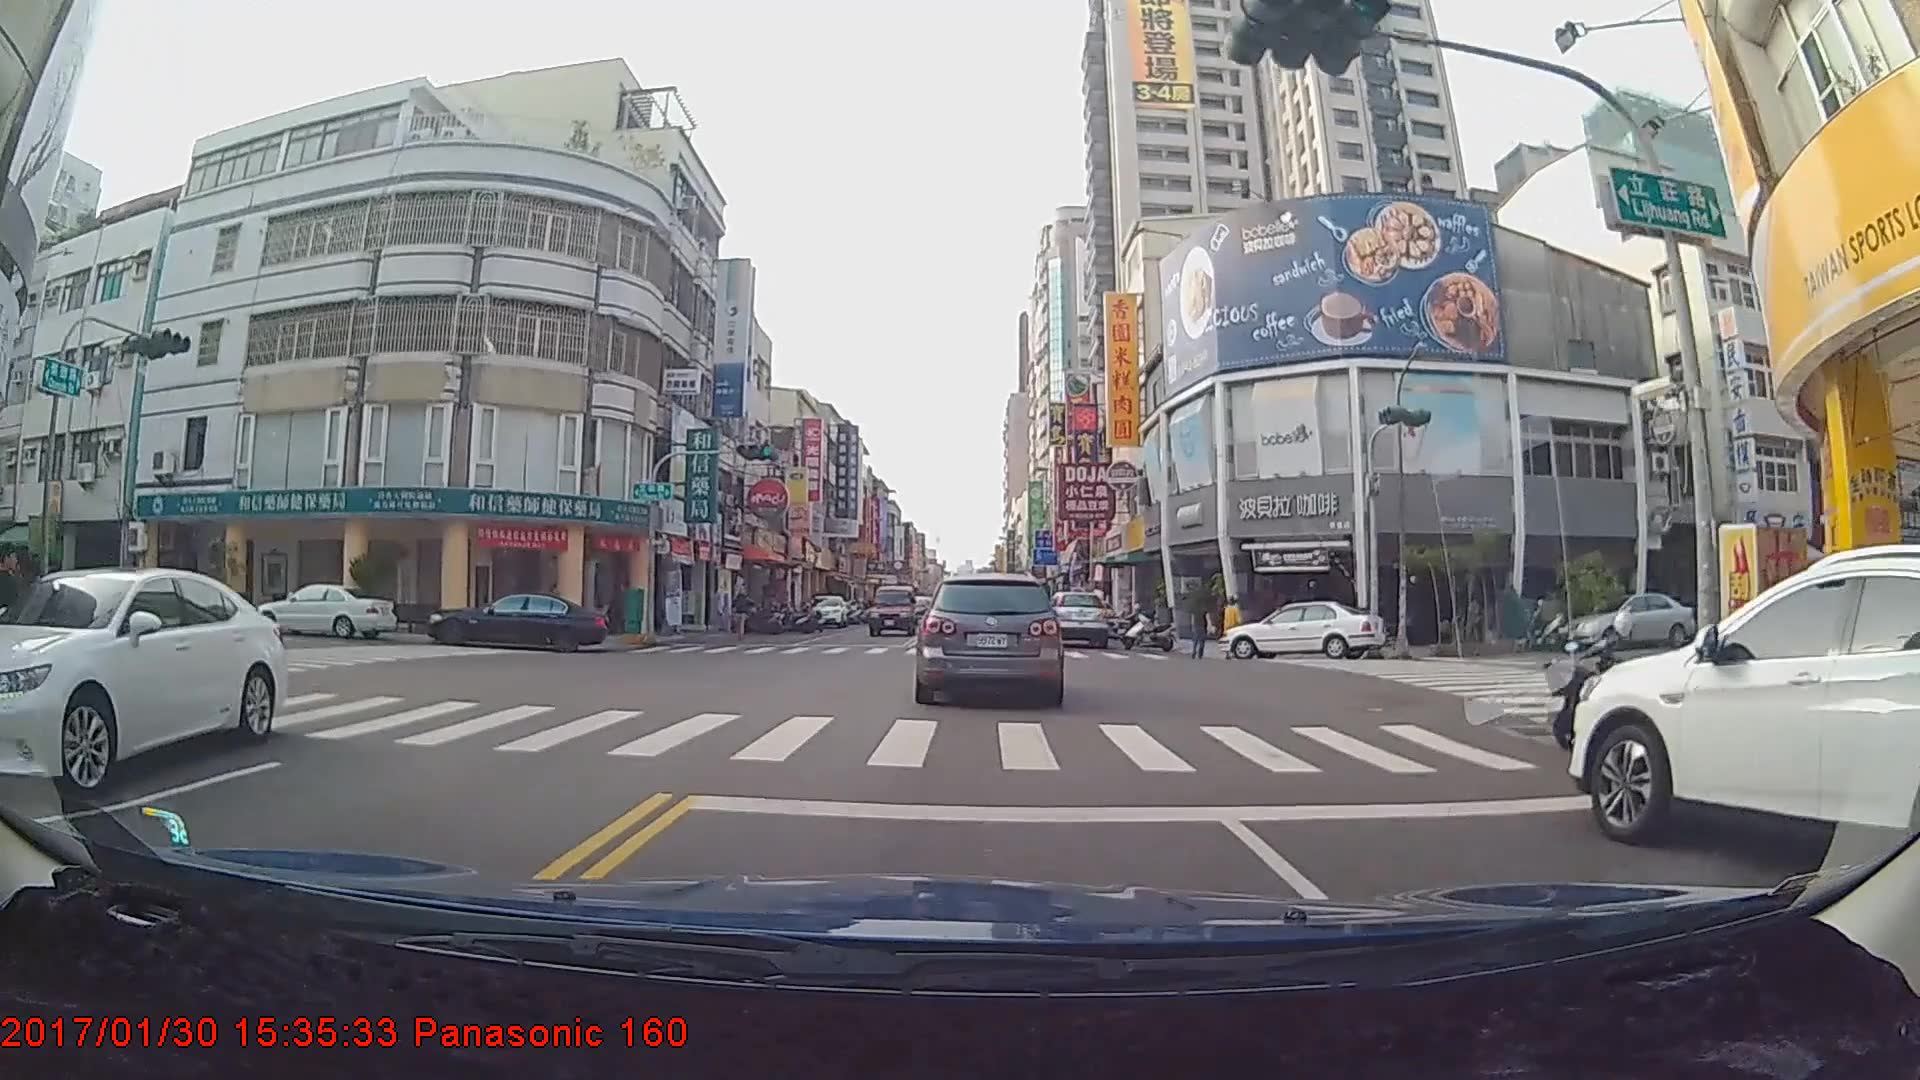pedestrian: (1189, 595, 1215, 657), (1223, 594, 1243, 651), (733, 587, 754, 640)
vehicle: (1568, 544, 1919, 916), (1, 564, 282, 802), (916, 571, 1062, 703), (422, 578, 606, 639), (1220, 596, 1383, 659), (248, 580, 394, 638), (1559, 592, 1696, 652), (1038, 586, 1109, 648), (866, 579, 916, 631), (801, 591, 847, 626)
